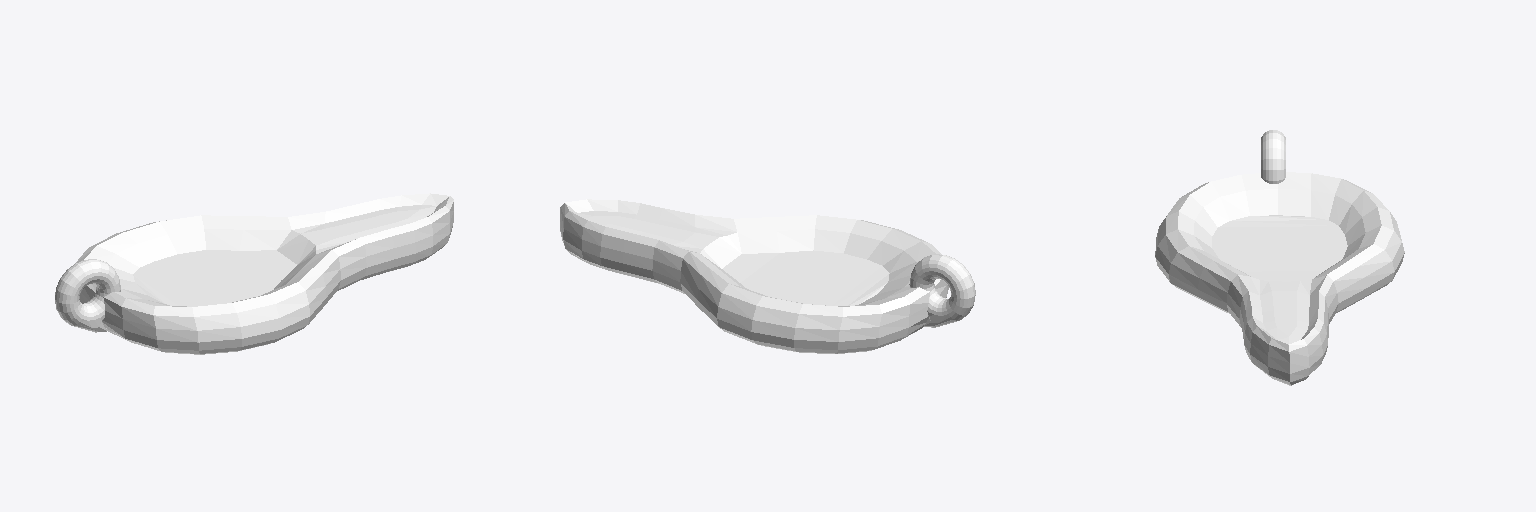
Rendered from firmalampe.obj.
The picture shows the model from 3 angles: view 1: azimuth 30°, elevation 25°; view 2: azimuth 150°, elevation 25°; view 3: azimuth 270°, elevation 25°; orthographic projection.
Parts seen in each view (by area): view 1: WSVFirmalampe; view 2: WSVFirmalampe; view 3: WSVFirmalampe.
Boxes of the visible parts, <box> form: WSVFirmalampe: <box>55,193,453,354</box>; WSVFirmalampe: <box>560,199,975,353</box>; WSVFirmalampe: <box>1155,130,1404,385</box>.
Size of the model in its own units: 1.39 by 0.26 by 0.742.